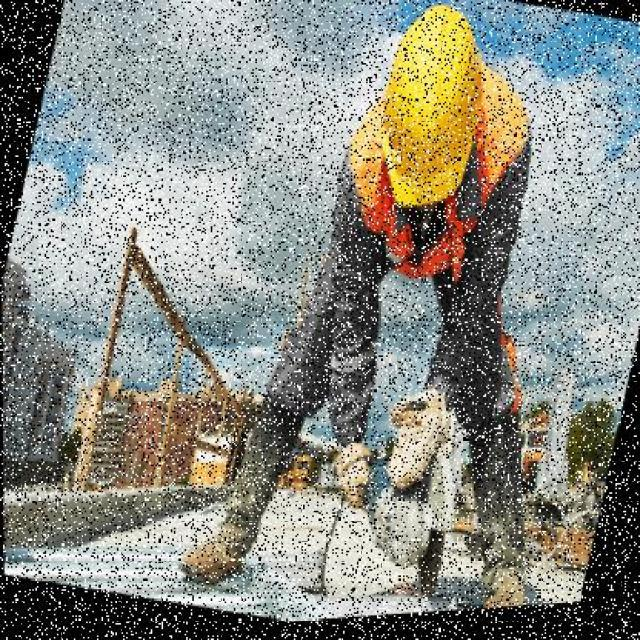helmet: (351, 0, 506, 243)
